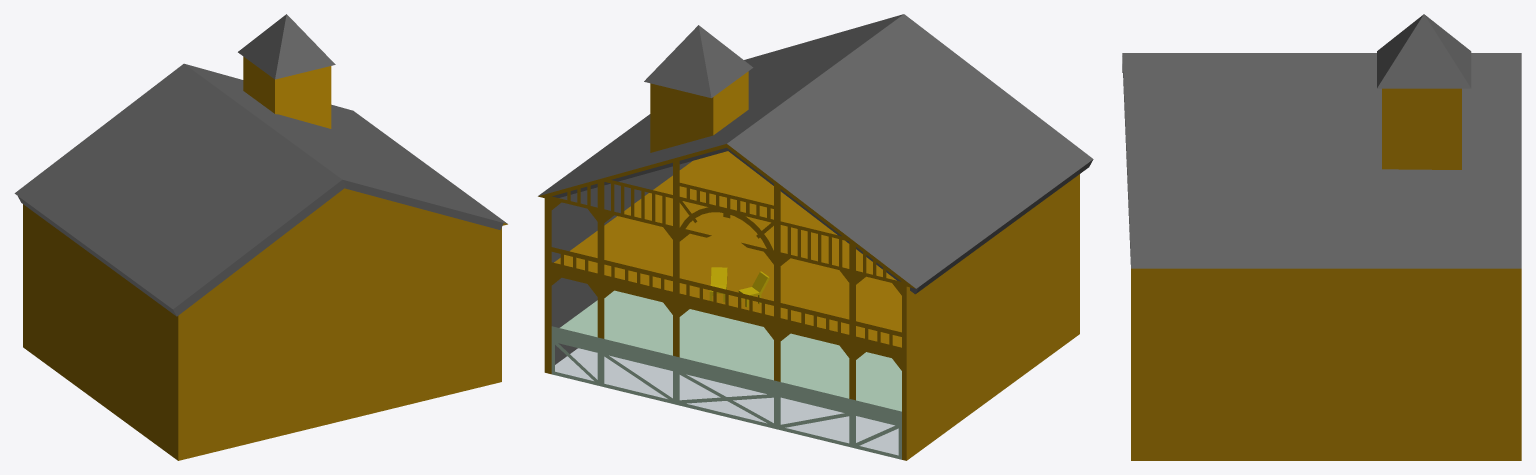
Rendered from Porch_HotChocolate.glb.
3 views of the same model, side by side, from view 1: azimuth 30°, elevation 25°; view 2: azimuth 150°, elevation 25°; view 3: azimuth 270°, elevation 25° (orthographic). The views are drawn at different scales.
Parts seen in each view (by area): view 1: Mesh1 Porch1 Model, Mesh2 Porch1 Model, Mesh4 Porch1 Model; view 2: Mesh1 Porch1 Model, Mesh2 Porch1 Model, Mesh4 Porch1 Model; view 3: Mesh1 Porch1 Model, Mesh2 Porch1 Model, Mesh4 Porch1 Model.
Part boxes in pixels (bbox=[...]): Mesh1 Porch1 Model: bbox=[14, 63, 507, 460]; Mesh2 Porch1 Model: bbox=[243, 56, 331, 128]; Mesh4 Porch1 Model: bbox=[238, 14, 335, 79]; Mesh1 Porch1 Model: bbox=[538, 14, 1093, 460]; Mesh2 Porch1 Model: bbox=[650, 71, 748, 152]; Mesh4 Porch1 Model: bbox=[644, 25, 753, 98]; Mesh1 Porch1 Model: bbox=[1122, 53, 1521, 460]; Mesh2 Porch1 Model: bbox=[1382, 88, 1461, 169]; Mesh4 Porch1 Model: bbox=[1377, 14, 1471, 88].
Bounding box in the file's own units: 451 × 390 × 366.
